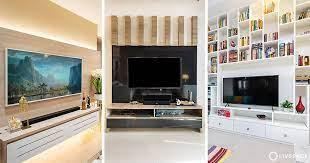TV: (5, 49, 85, 103), (221, 74, 281, 112), (124, 57, 183, 93)
console: (2, 104, 101, 162), (210, 105, 310, 144), (106, 103, 207, 133)
light: (183, 74, 191, 82)
